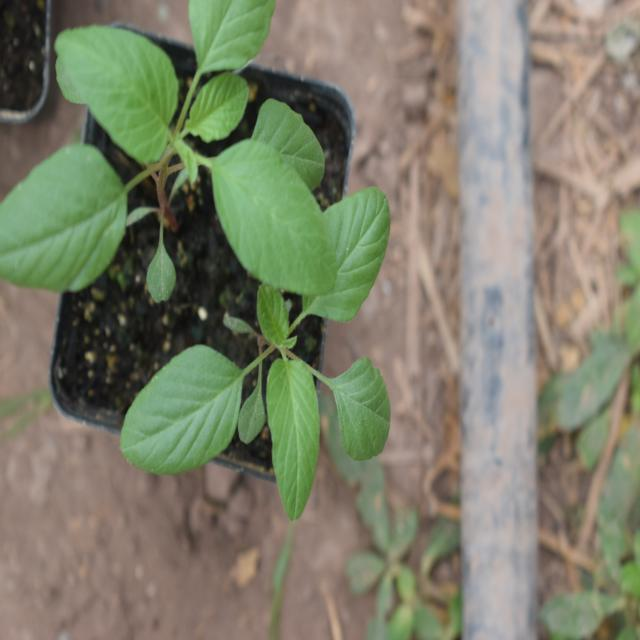pigweed: (14, 8, 325, 340), (120, 183, 417, 496)
